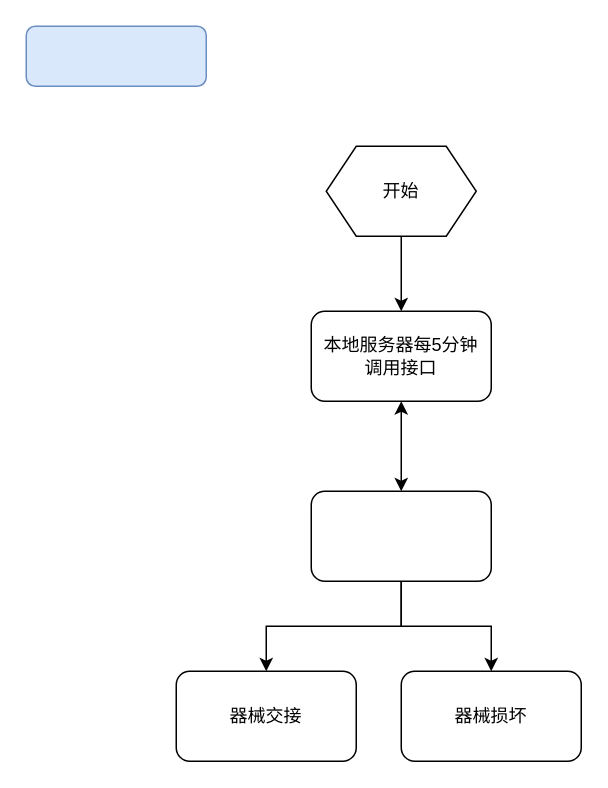
Some shapes in this 608 by 788 pixel diagram are drawn without their labels. Each missing label, with the centre of its shape:
"安全员A登录网页服务" goes at (400,535).
"报备" goes at (115,55).
